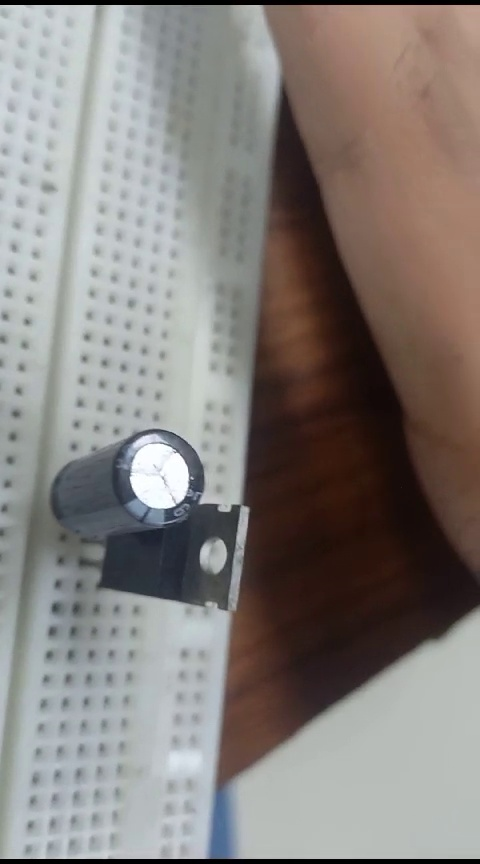capacitor: (50, 429, 210, 541)
voltage regulator: (110, 495, 254, 625)
